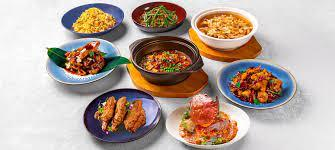Braised Crucian Carp: (126, 35, 208, 98), (186, 5, 261, 63), (83, 87, 160, 142), (164, 100, 249, 149), (216, 59, 297, 110), (45, 36, 120, 85), (61, 2, 123, 37), (131, 0, 187, 33)
